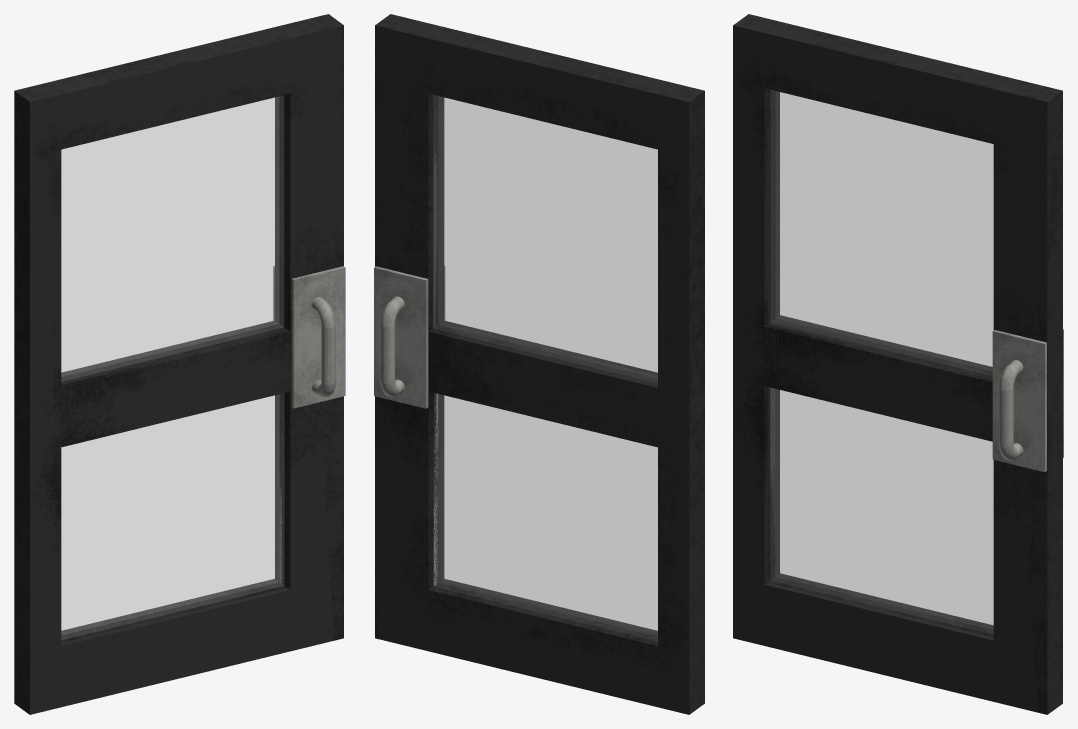
File: BackDoor.fbx
3 views of the same model, side by side, from view 1: azimuth 30°, elevation 25°; view 2: azimuth 150°, elevation 25°; view 3: azimuth 330°, elevation 25° (orthographic).
Visible parts, largest first — view 1: polySurface1, polySurface3, polySurface4, polySurface9; view 2: polySurface1, polySurface3, polySurface4, polySurface10; view 3: polySurface1, polySurface3, polySurface4, polySurface9.
Part boxes in pixels (x1,y1,x2,y2): polySurface1: (14,14,343,714); polySurface3: (61,95,283,381); polySurface4: (61,393,284,639); polySurface9: (291,266,345,408); polySurface1: (375,14,704,714); polySurface3: (433,95,657,382); polySurface4: (433,393,657,640); polySurface10: (374,266,428,408); polySurface1: (733,14,1062,714); polySurface3: (771,90,993,375); polySurface4: (770,388,993,634); polySurface9: (992,330,1046,472).
Size of the model in its own units: 6.03 by 11.24 by 1.61.
